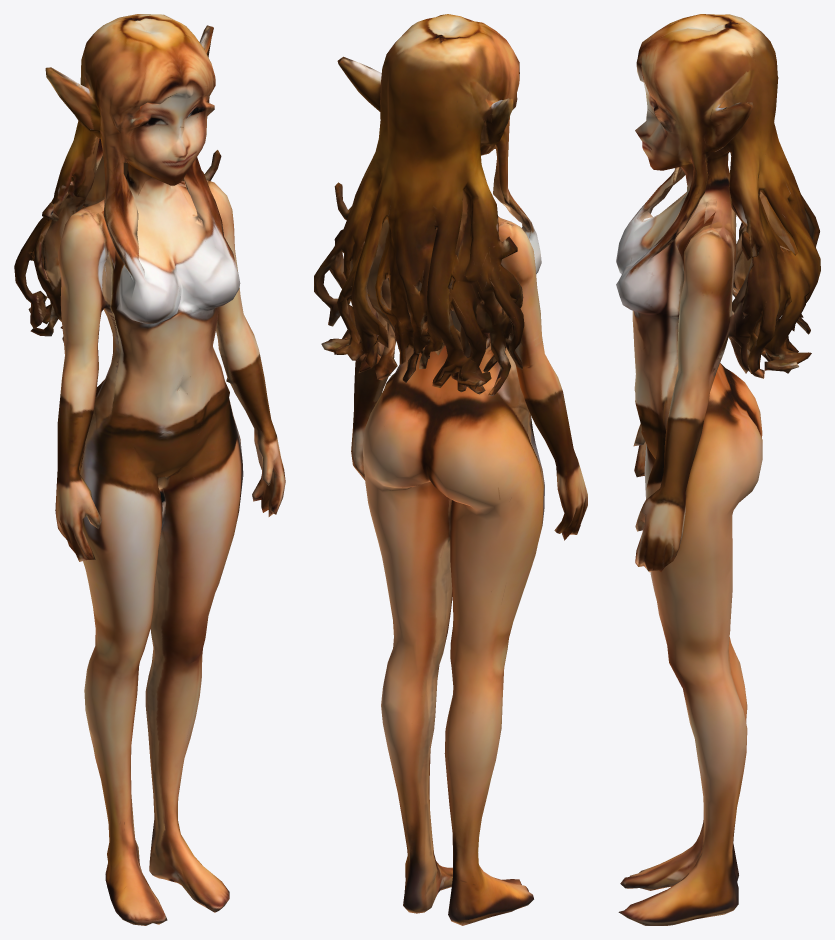
File: 9bece1f1-c166-4e9c-a0f6-868556c68adf.glb
3 renders of one model, left to right at view 1: azimuth 30°, elevation 25°; view 2: azimuth 150°, elevation 25°; view 3: azimuth 270°, elevation 25°, orthographic. The views are drawn at different scales.
Size of the model in its own units: 0.5327 by 2.01 by 0.4247.
1 material, 1 textured.
